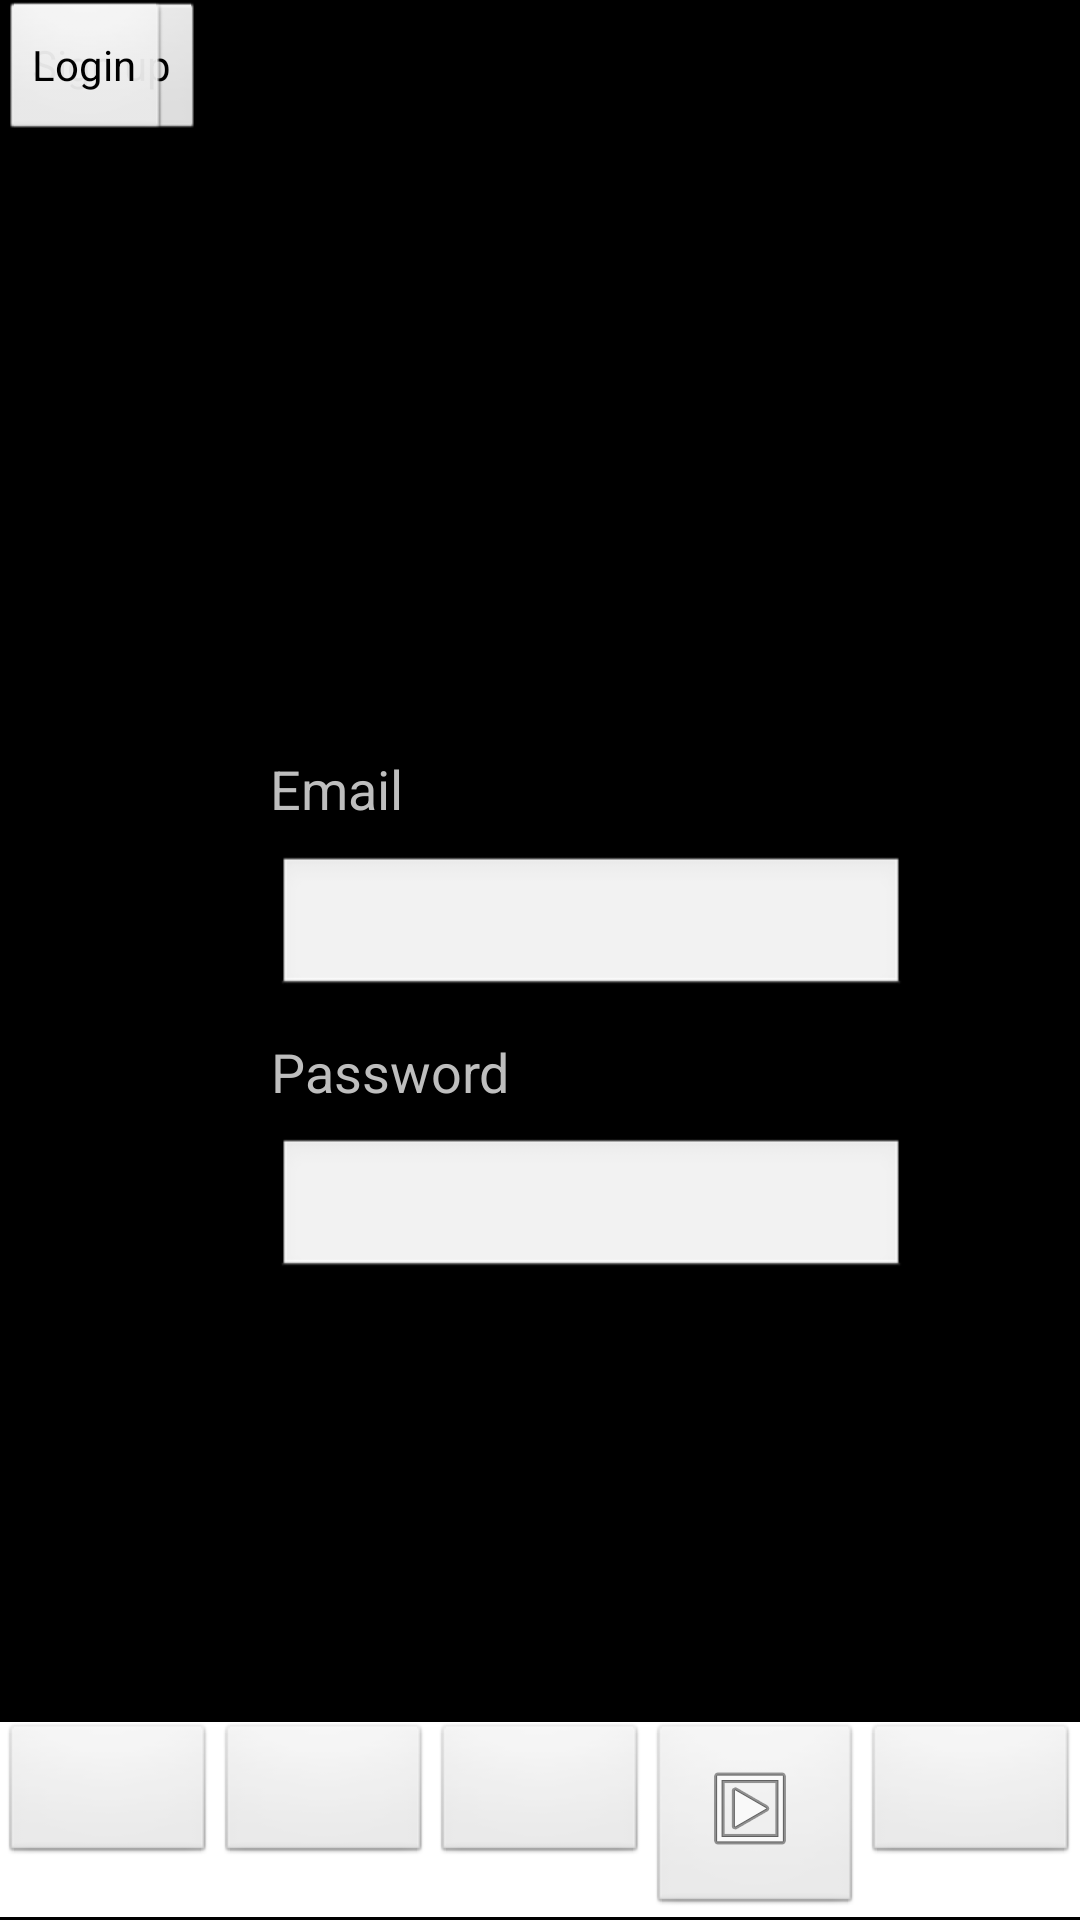

Where icons sit on this 1080 × 1920 app screen, as Rect(x1, y1, x2, y2):
slideshow: Rect(656, 1724, 854, 1905)
